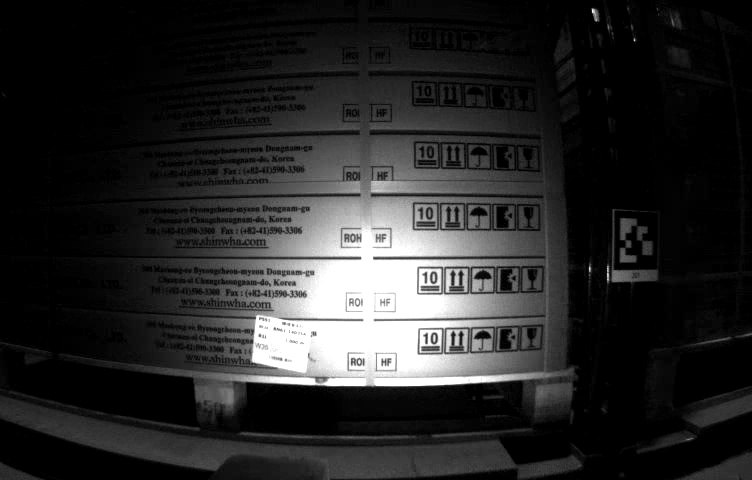True Barcode: (255, 313, 313, 373), (695, 310, 725, 339)
